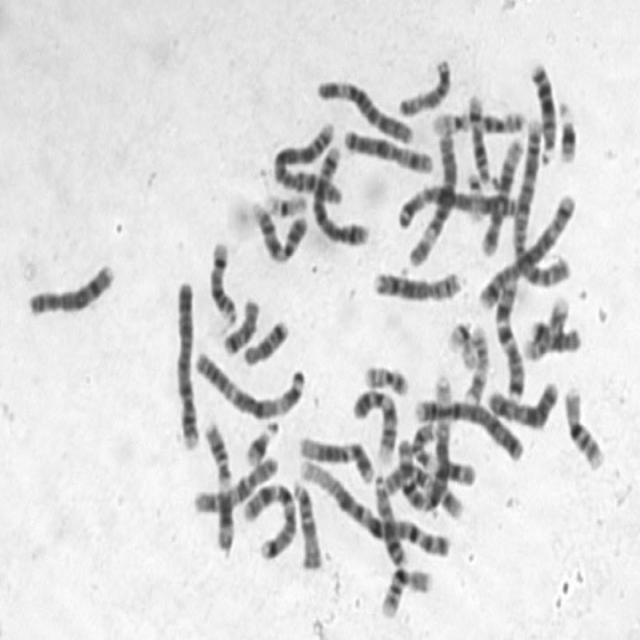A1: (295, 451, 457, 559), (390, 372, 454, 513)
A2: (508, 113, 574, 290), (268, 113, 346, 206)
A3: (190, 342, 308, 420), (392, 178, 524, 231)
B4: (408, 389, 527, 464), (170, 270, 202, 452)
B5: (474, 185, 578, 311), (306, 137, 372, 247)
C10: (390, 429, 464, 519), (189, 448, 282, 516)
C11: (199, 413, 237, 554), (407, 415, 478, 488)
C12: (477, 130, 527, 258), (293, 426, 377, 485)
C6: (402, 122, 460, 270), (313, 70, 418, 146)
C7: (239, 474, 301, 562), (492, 273, 530, 402)
C8: (23, 252, 118, 320), (368, 261, 466, 303)
C9: (247, 190, 311, 265), (347, 379, 401, 464)
D13: (370, 466, 410, 567), (525, 52, 560, 163)
D14: (204, 231, 240, 324), (463, 86, 494, 188)
D15: (395, 49, 454, 118), (289, 471, 325, 573)
E16: (559, 378, 608, 472), (376, 558, 436, 621)
E17: (518, 287, 572, 363), (460, 318, 492, 405)
E18: (238, 309, 292, 368), (218, 289, 262, 356)
F19: (444, 312, 480, 369), (260, 184, 310, 219)
F20: (467, 100, 526, 136), (359, 356, 412, 396)
G21: (241, 414, 281, 468), (553, 92, 580, 165)
G22: (428, 102, 472, 137), (443, 312, 478, 355)
X: (338, 121, 436, 175), (482, 373, 561, 430)
